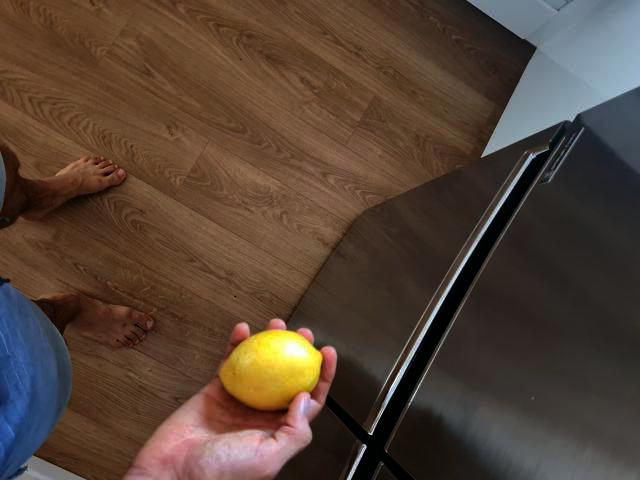lemon: (219, 329, 323, 404)
